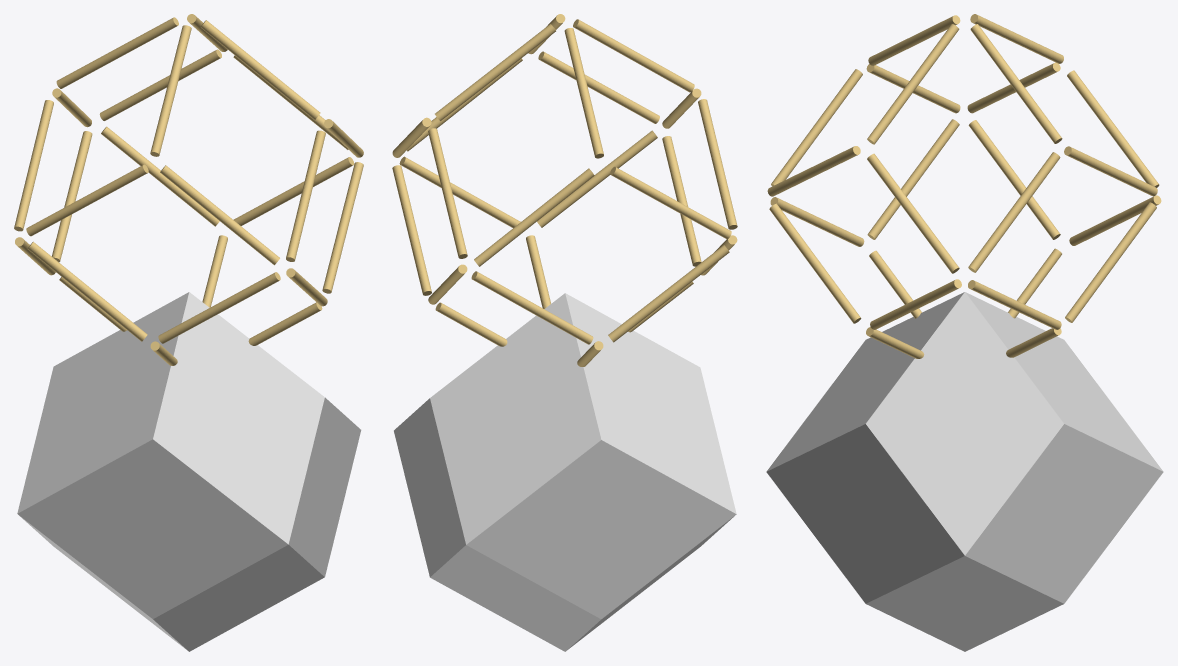
The picture shows the model from 3 angles, left to right: view 1: azimuth 30°, elevation 25°; view 2: azimuth 150°, elevation 25°; view 3: azimuth 270°, elevation 25°; orthographic projection.
Parts seen in each view (by area): view 1: Solid.001, Cylinder.019, Cylinder.016, Cylinder.017, Cylinder.013, Cylinder.014, Cylinder.012, Cylinder, Cylinder.004, Cylinder.008, Cylinder.010, Cylinder.023 (+7 smaller); view 2: Solid.001, Cylinder.003, Cylinder.009, Cylinder.007, Cylinder.005, Cylinder, Cylinder.006, Cylinder.008, Cylinder.021, Cylinder.013, Cylinder.020, Cylinder.014 (+9 smaller); view 3: Solid.001, Cylinder.022, Cylinder.023, Cylinder.005, Cylinder.003, Cylinder.011, Cylinder.019, Cylinder.009, Cylinder.016, Cylinder.007, Cylinder.017, Cylinder.020 (+12 smaller).
Boxes of the visible parts, bbox=[...] form: Solid.001: bbox=[17, 292, 361, 651]; Cylinder.019: bbox=[200, 20, 320, 119]; Cylinder.016: bbox=[160, 165, 279, 265]; Cylinder.017: bbox=[27, 241, 147, 341]; Cylinder.013: bbox=[26, 164, 148, 236]; Cylinder.014: bbox=[56, 17, 178, 88]; Cylinder.012: bbox=[158, 272, 280, 343]; Cylinder: bbox=[150, 25, 191, 156]; Cylinder.004: bbox=[322, 162, 363, 293]; Cylinder.008: bbox=[14, 100, 53, 231]; Cylinder.010: bbox=[286, 130, 325, 261]; Cylinder.023: bbox=[101, 126, 219, 226]; Solid.001: bbox=[394, 293, 736, 651]; Cylinder.003: bbox=[435, 24, 555, 120]; Cylinder.009: bbox=[474, 168, 594, 266]; Cylinder.007: bbox=[608, 245, 729, 342]; Cylinder.005: bbox=[537, 130, 657, 227]; Cylinder: bbox=[573, 19, 694, 92]; Cylinder.006: bbox=[471, 271, 593, 344]; Cylinder.008: bbox=[610, 166, 731, 239]; Cylinder.021: bbox=[428, 128, 467, 258]; Cylinder.013: bbox=[698, 99, 737, 229]; Cylinder.020: bbox=[392, 165, 431, 295]; Cylinder.014: bbox=[564, 28, 603, 158]; Solid.001: bbox=[766, 292, 1163, 651]; Cylinder.022: bbox=[968, 152, 1060, 272]; Cylinder.023: bbox=[1065, 202, 1156, 322]; Cylinder.005: bbox=[769, 203, 861, 323]; Cylinder.003: bbox=[970, 24, 1062, 143]; Cylinder.011: bbox=[867, 153, 959, 273]; Cylinder.019: bbox=[867, 24, 959, 144]; Cylinder.009: bbox=[1067, 70, 1159, 187]; Cylinder.016: bbox=[771, 69, 862, 186]; Cylinder.007: bbox=[968, 120, 1060, 239]; Cylinder.017: bbox=[867, 119, 959, 239]; Cylinder.020: bbox=[968, 280, 1061, 329].
Bounding box in the file's own units: 17.72 × 31.15 × 17.72.
